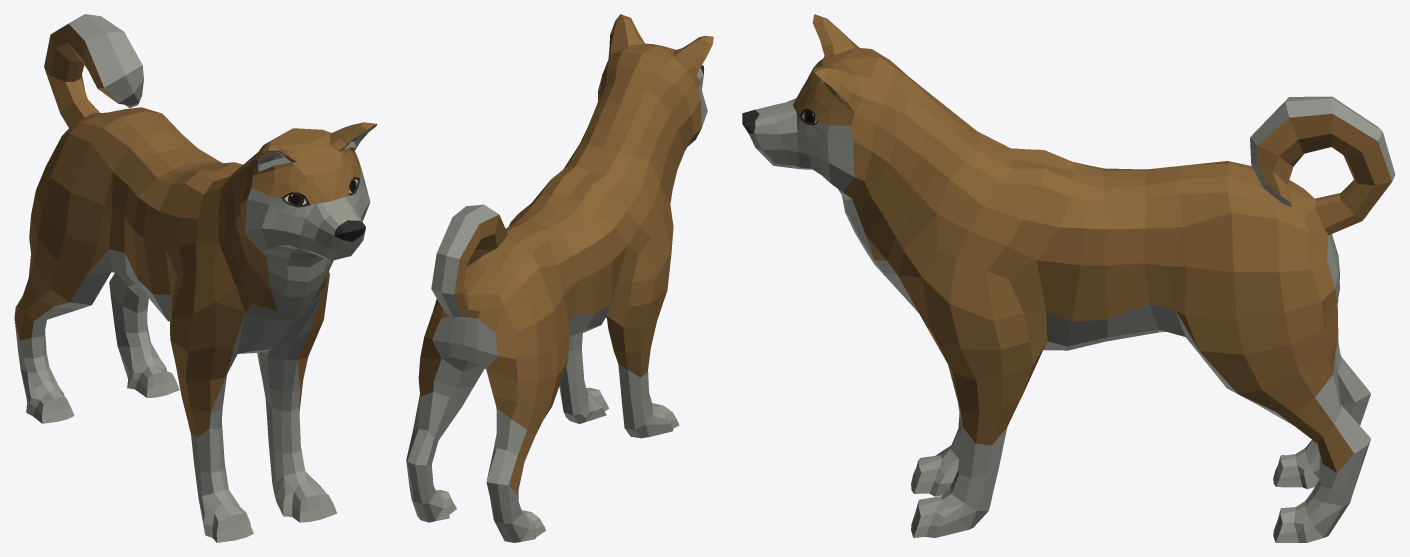
Rendered from dog.glb.
The picture shows the model from 3 angles, left to right: view 1: azimuth 30°, elevation 25°; view 2: azimuth 150°, elevation 25°; view 3: azimuth 270°, elevation 25°; orthographic projection. The views are drawn at different scales.
Parts seen in each view (by area): view 1: ShibaInu; view 2: ShibaInu; view 3: ShibaInu.
Boxes of the visible parts, <box> form: ShibaInu: <box>14,14,377,542</box>; ShibaInu: <box>406,14,713,542</box>; ShibaInu: <box>742,14,1395,542</box>.
Size of the model in its own units: 0.5426 by 1.57 by 2.
